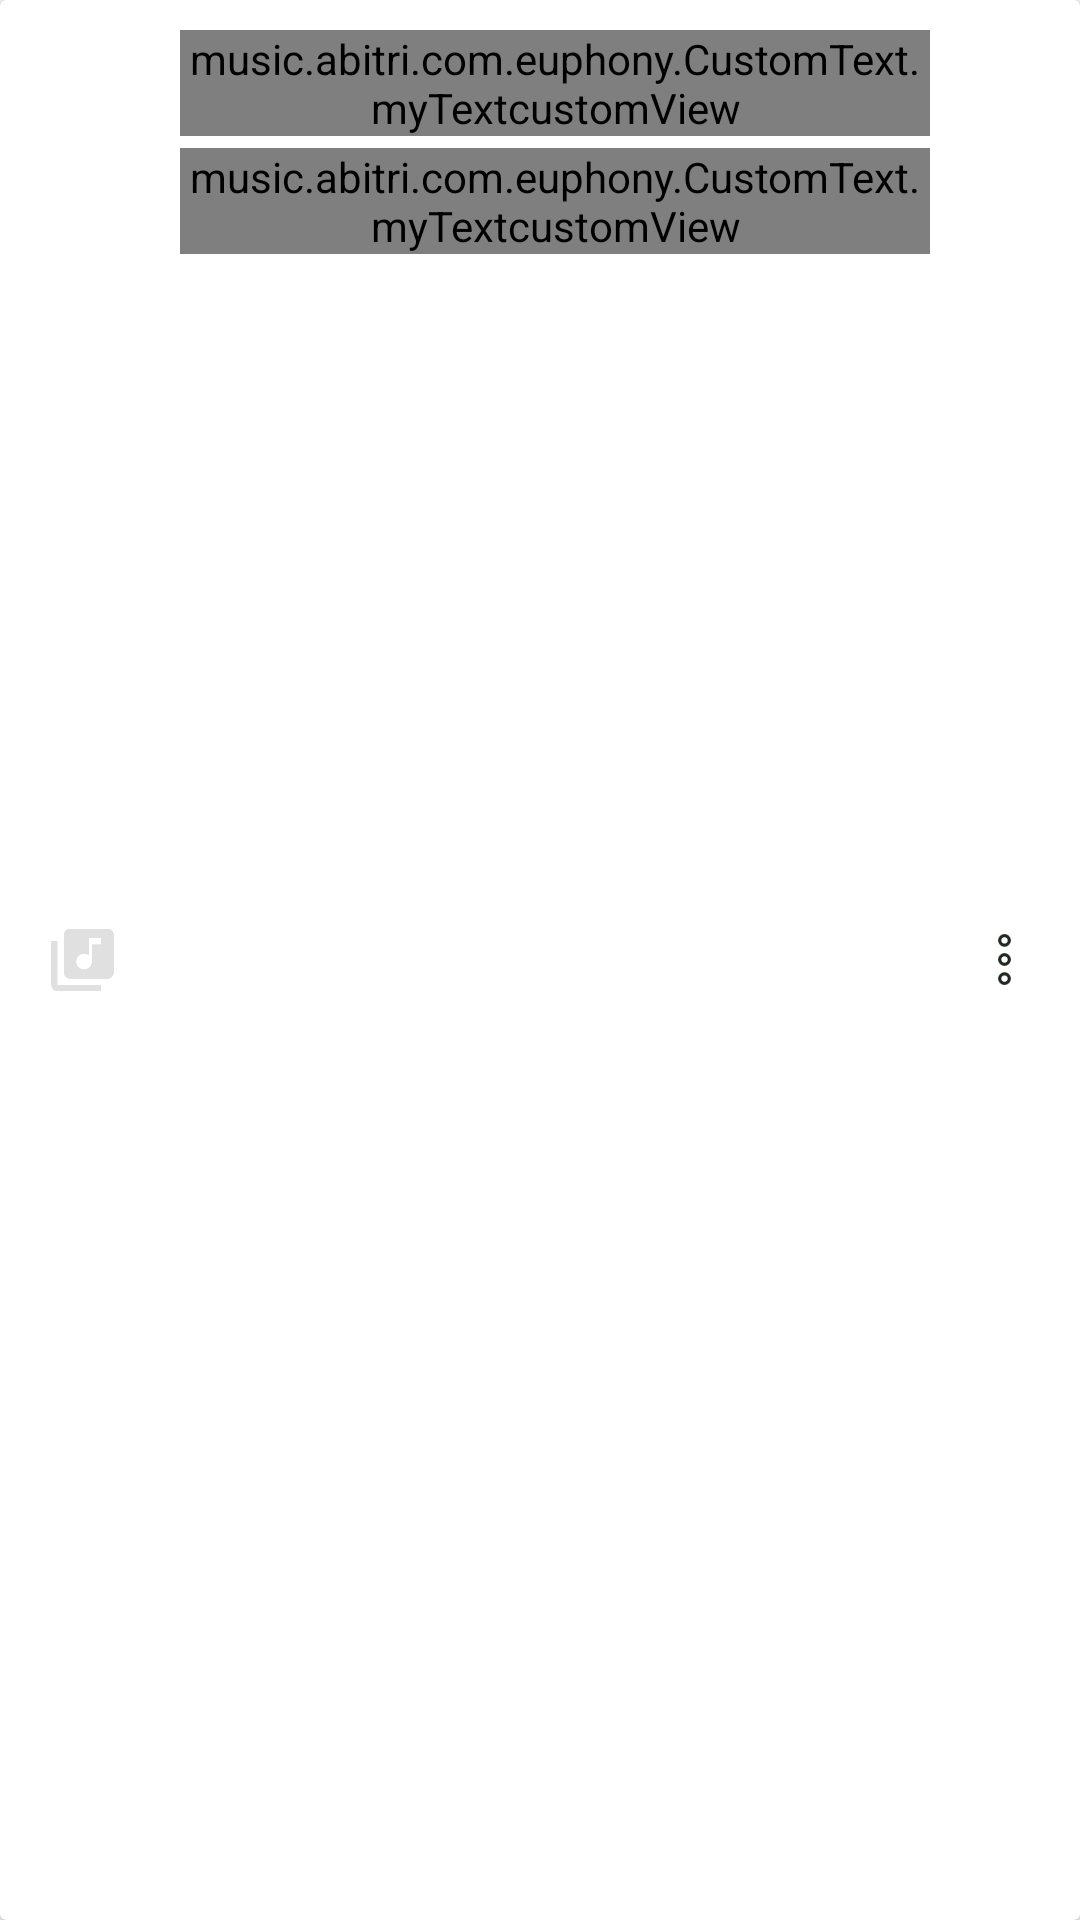

Icons on this 1080 x 1920 Android screen, each with its box as {"x1": x1, "y1": y1, "x2": x2, "y2": y2}:
more dots: {"x1": 998, "y1": 934, "x2": 1011, "y2": 985}
